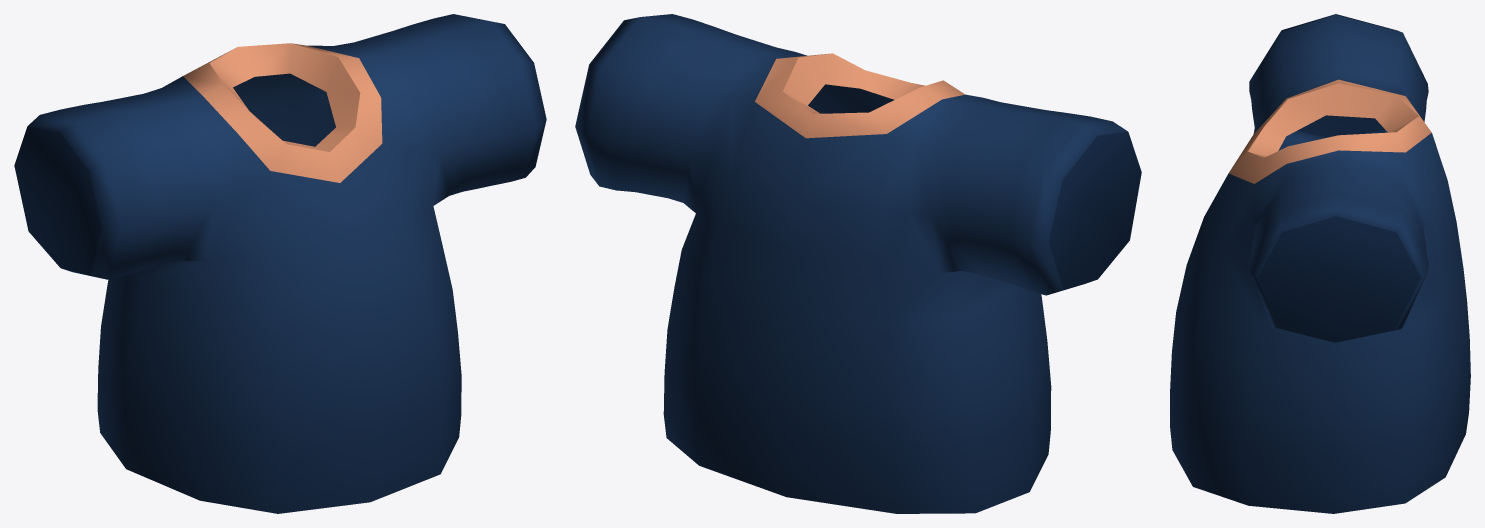
Rendered from Top_6.fbx.
The picture shows the model from 3 angles, left to right: view 1: azimuth 30°, elevation 25°; view 2: azimuth 150°, elevation 25°; view 3: azimuth 270°, elevation 25°; orthographic projection. The views are drawn at different scales.
Parts seen in each view (by area): view 1: Top_6; view 2: Top_6; view 3: Top_6.
Part boxes in pixels (x1,y1,x2,y2): Top_6: [14, 14, 546, 513]; Top_6: [575, 14, 1141, 513]; Top_6: [1170, 14, 1470, 513].
Size of the model in its own units: 58.02 by 45.64 by 36.49.
